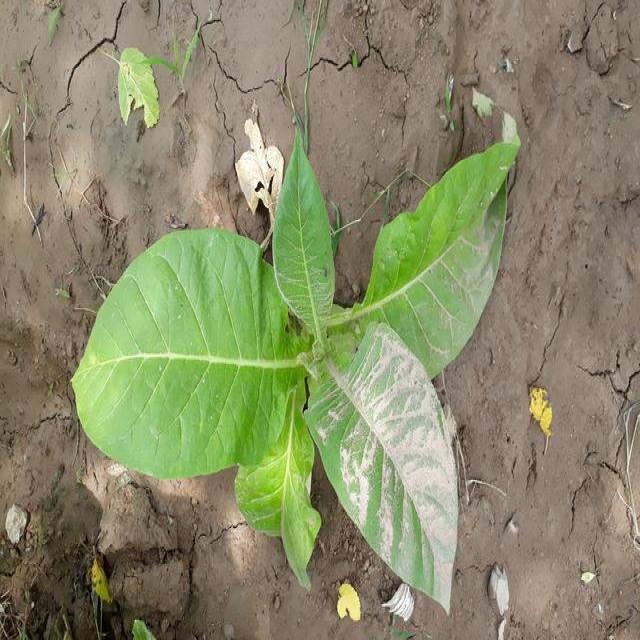crop: (83, 130, 519, 621)
